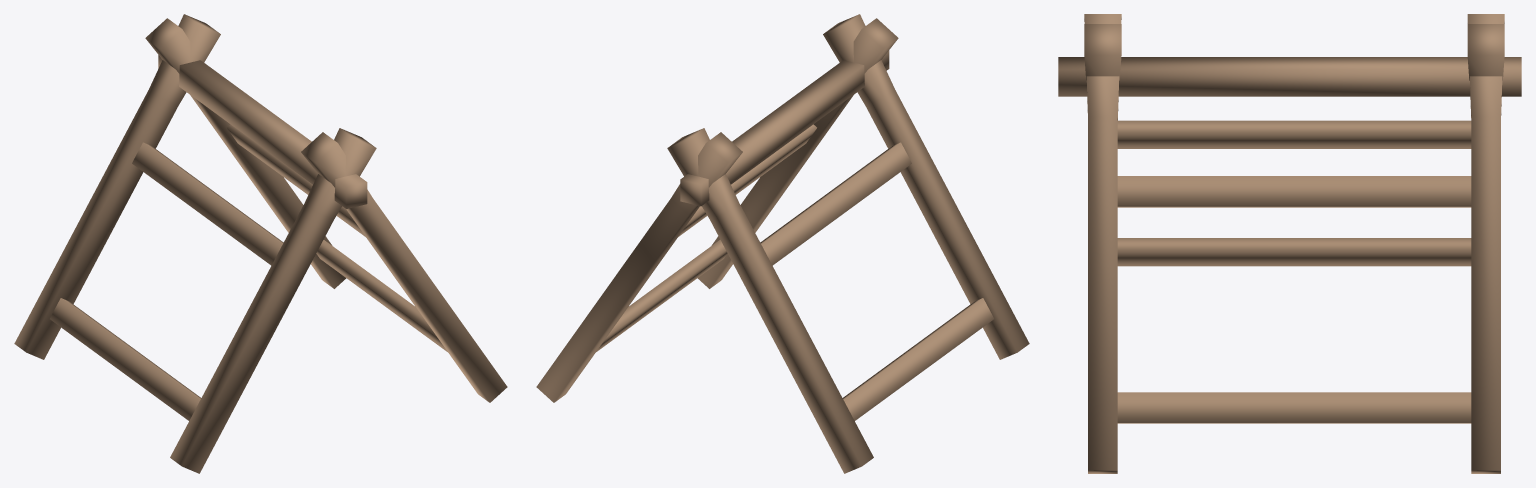
The model's file is kenney_survival-kit__tent.fbx.
3 renders of one model, left to right at view 1: azimuth 30°, elevation 25°; view 2: azimuth 150°, elevation 25°; view 3: azimuth 270°, elevation 25°, orthographic. The views are drawn at different scales.
Parts seen in each view (by area): view 1: kenney_survival-kit__tent__cave_wood; view 2: kenney_survival-kit__tent__cave_wood; view 3: kenney_survival-kit__tent__cave_wood.
Boxes of the visible parts, x1=… form: kenney_survival-kit__tent__cave_wood: x1=14, y1=14, x2=507, y2=473; kenney_survival-kit__tent__cave_wood: x1=536, y1=14, x2=1029, y2=473; kenney_survival-kit__tent__cave_wood: x1=1058, y1=14, x2=1521, y2=473.
Size of the model in its own units: 2 by 1.75 by 2.
